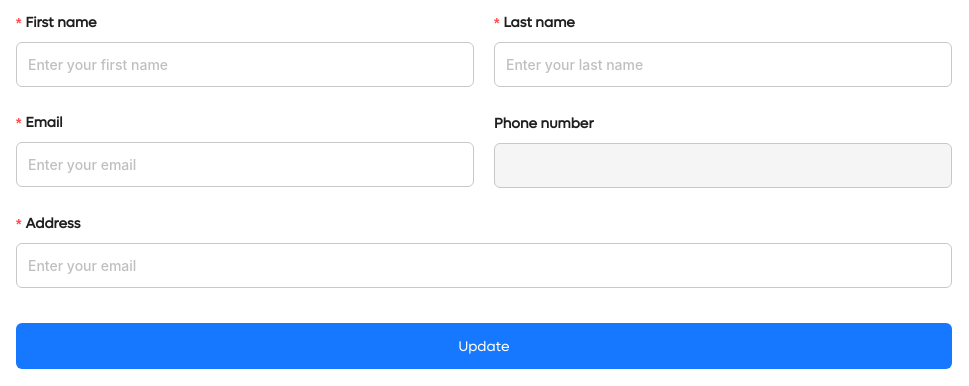
Profile Component › should show error message if email is invalid
The width and height of the screenshot is (969, 386).
Type "Invalid Email" into the field with test id "email".
click(245, 164); type("Invalid Email")  # box [16, 142, 474, 187]
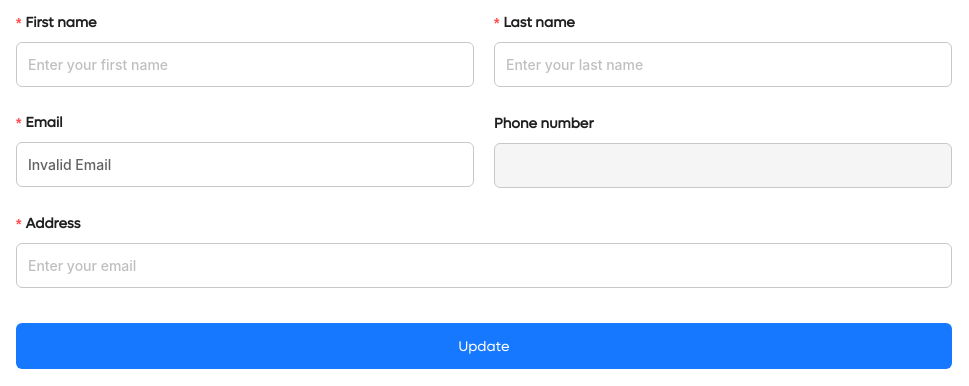
Click the button "Update".
click(484, 346)  # box [16, 323, 952, 369]
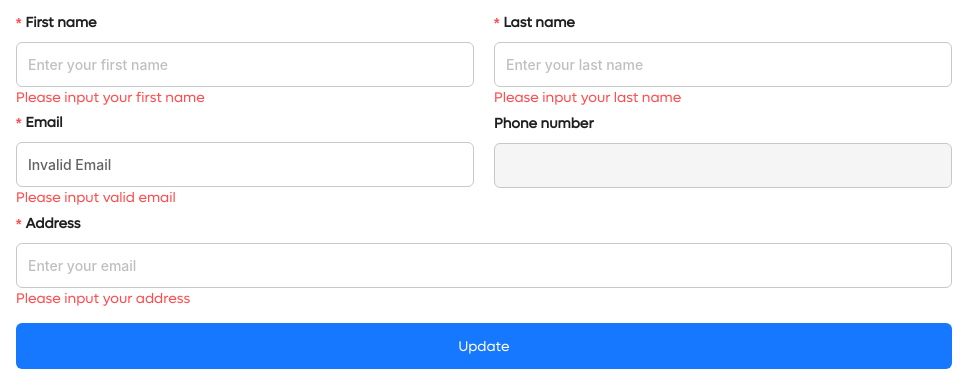
Check: the text "Please input valid email" is shown, box [16, 188, 176, 207]
